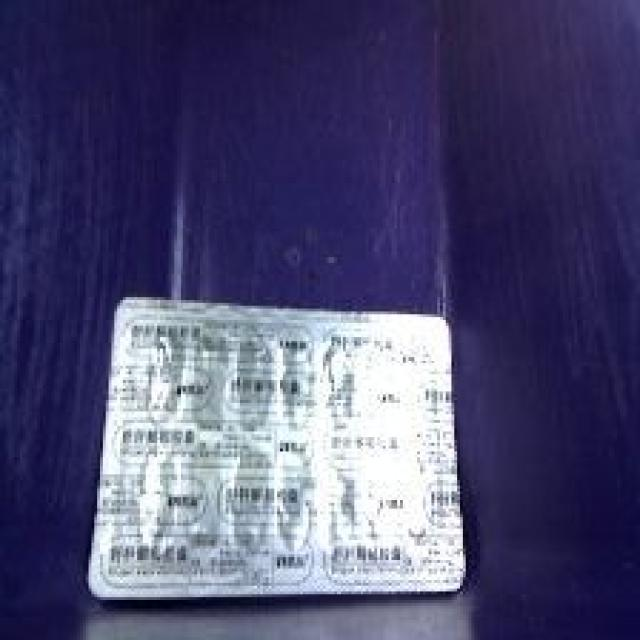med_plate: (73, 274, 480, 616)
